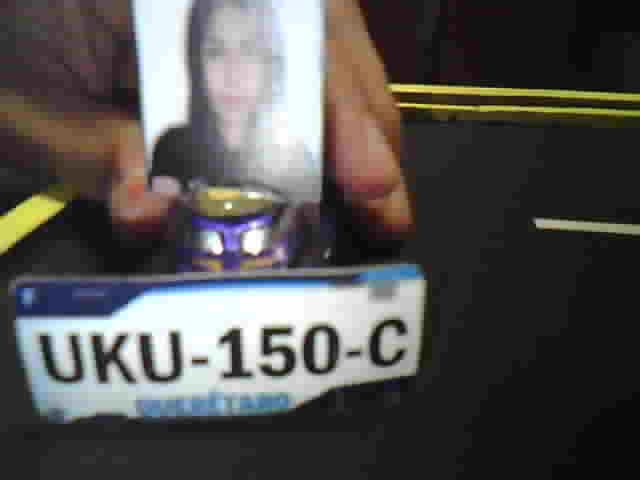PLACA: (6, 261, 431, 427)
ROSTRO: (147, 3, 319, 200)
